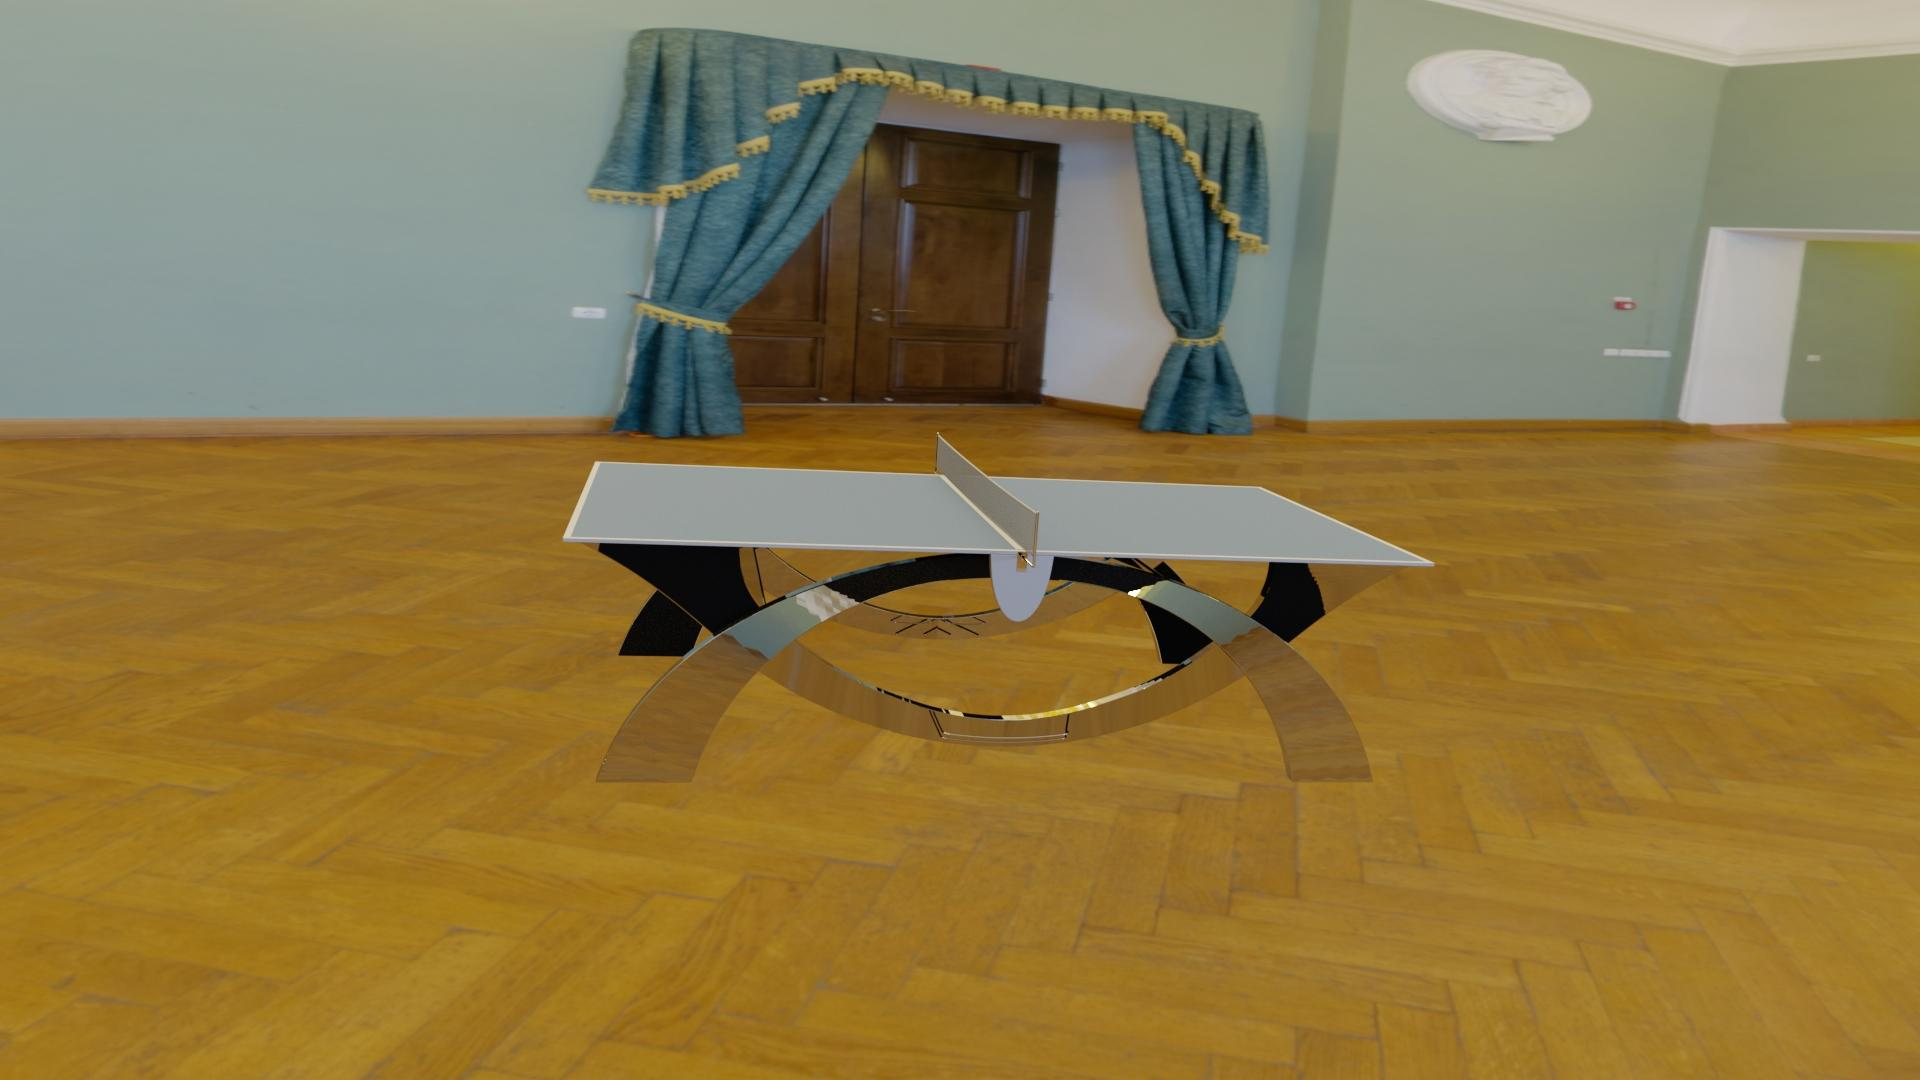table: (571, 463, 1425, 562)
